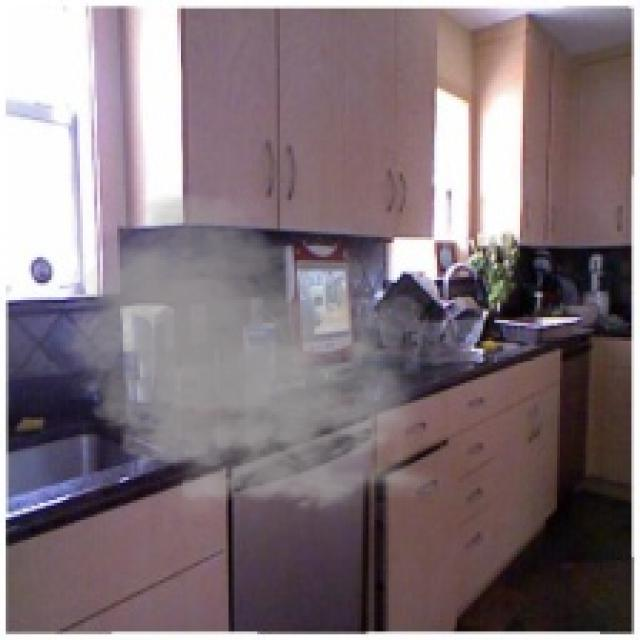smoke: (43, 183, 451, 526)
